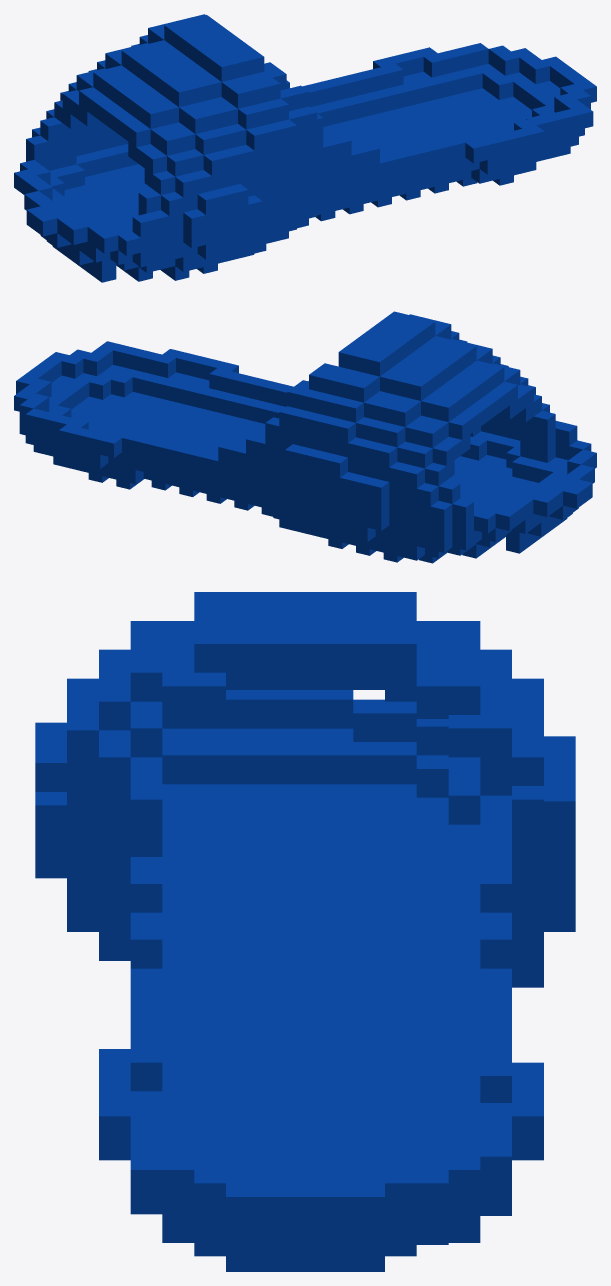
Rendered from Azure.fbx.
3 renders of one model, top to bottom at view 1: azimuth 30°, elevation 25°; view 2: azimuth 150°, elevation 25°; view 3: azimuth 270°, elevation 25°, orthographic. The views are drawn at different scales.
Parts seen in each view (by area): view 1: Untitled; view 2: Untitled; view 3: Untitled.
Boxes of the visible parts, left/top/right/bottom form: Untitled: left=14, top=14, right=596, bottom=282; Untitled: left=14, top=311, right=596, bottom=563; Untitled: left=35, top=592, right=575, bottom=1271.
Bounding box in the file's own units: 390 × 120 × 170.
